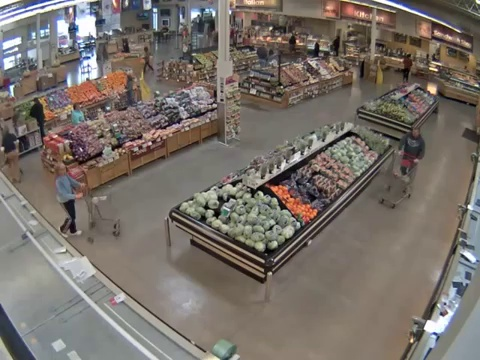face: (56, 164, 66, 175), (412, 128, 420, 137)
